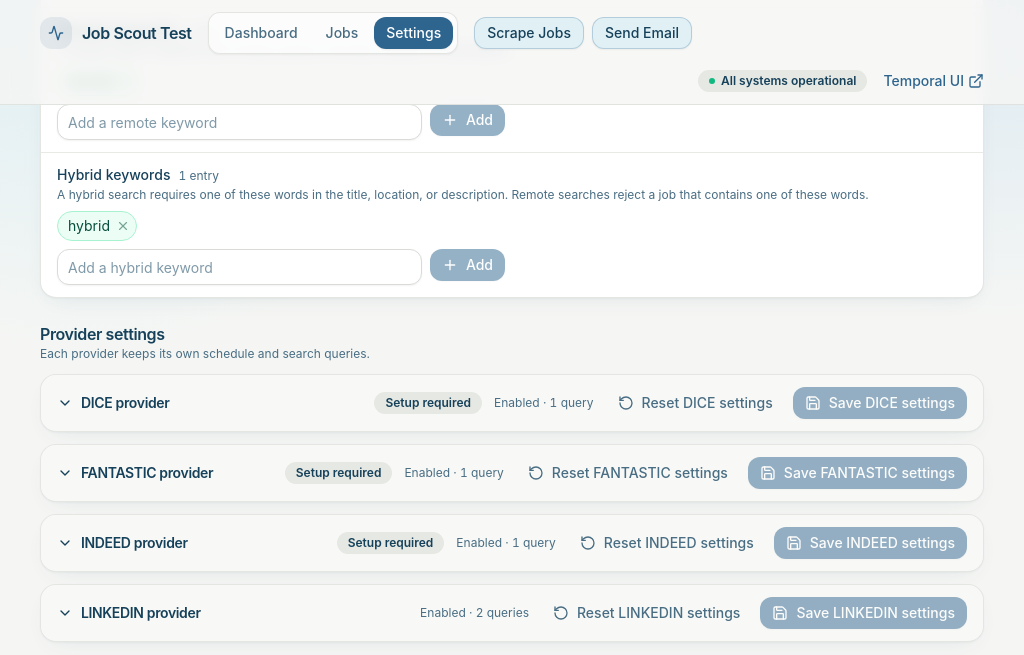
it: operator shell › renders provider editors and locks Apify providers without a token
(page scrolled)
Expected: the heading "INDEED provider" is shown, [57,531,188,555]
Expected: the heading "DICE provider" is shown, [57,391,170,415]
Click the button "LINKEDIN provider". click: [129, 613]
box: [57,601,201,625]
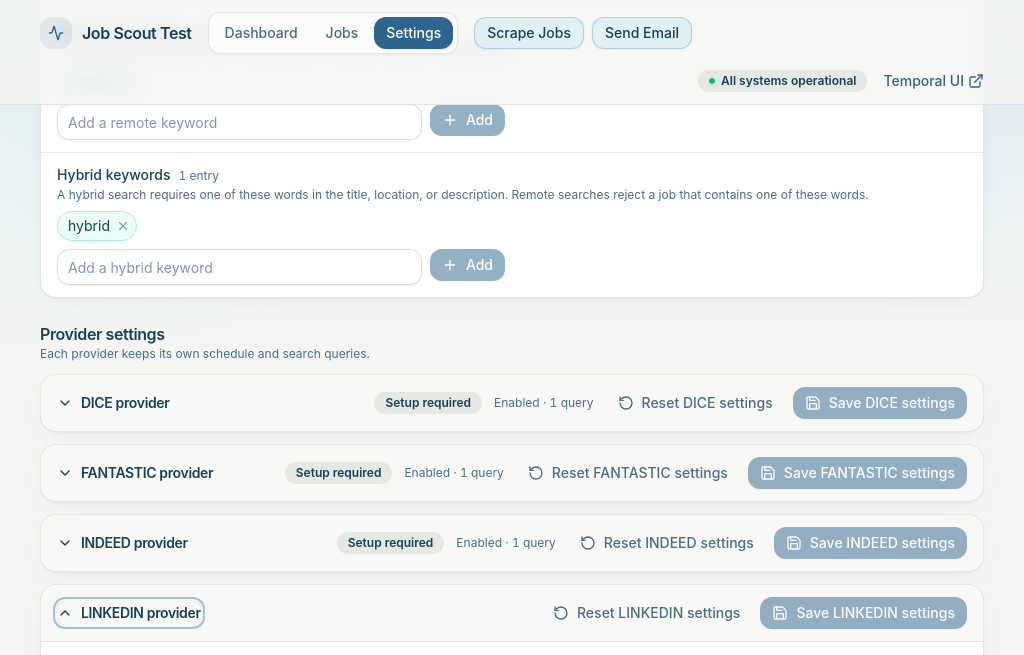
Click the button "INDEED provider". click: [122, 543]
box: [57,531,188,555]
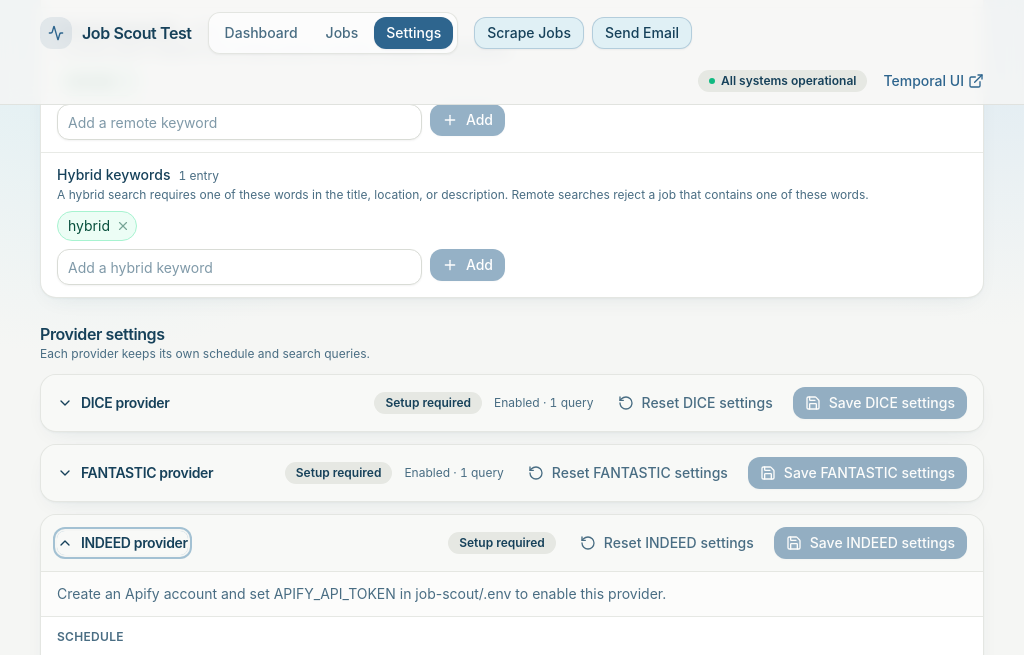
Click the button "DICE provider". click: [113, 403]
box: [57,391,170,415]
(page scrolled)
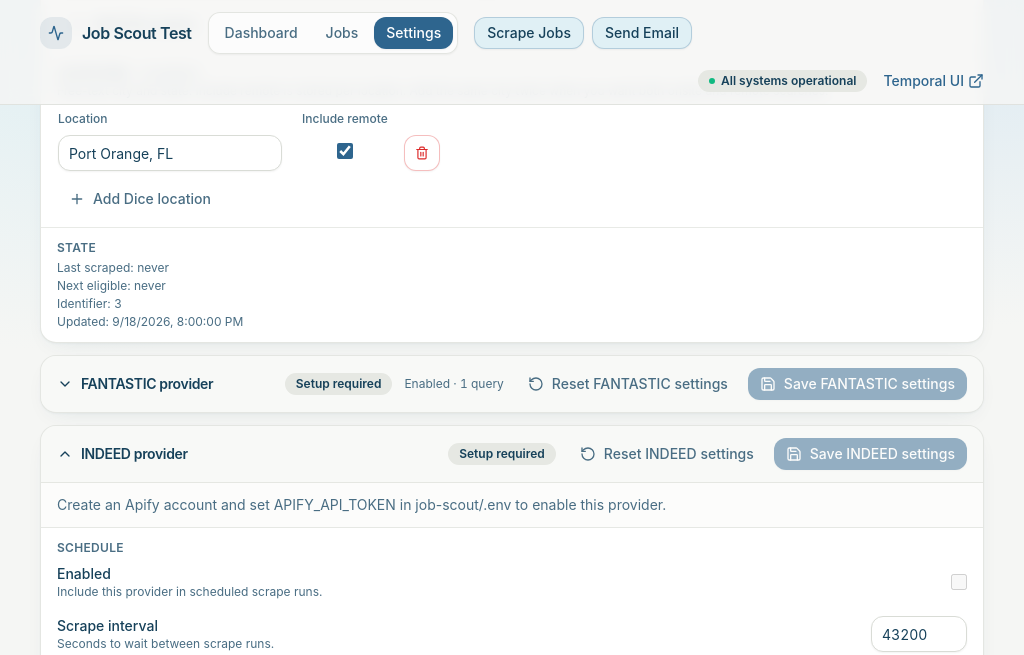
Click the button "FANTASTIC provider". click: [135, 384]
box: [57,372,213,396]
(page scrolled)
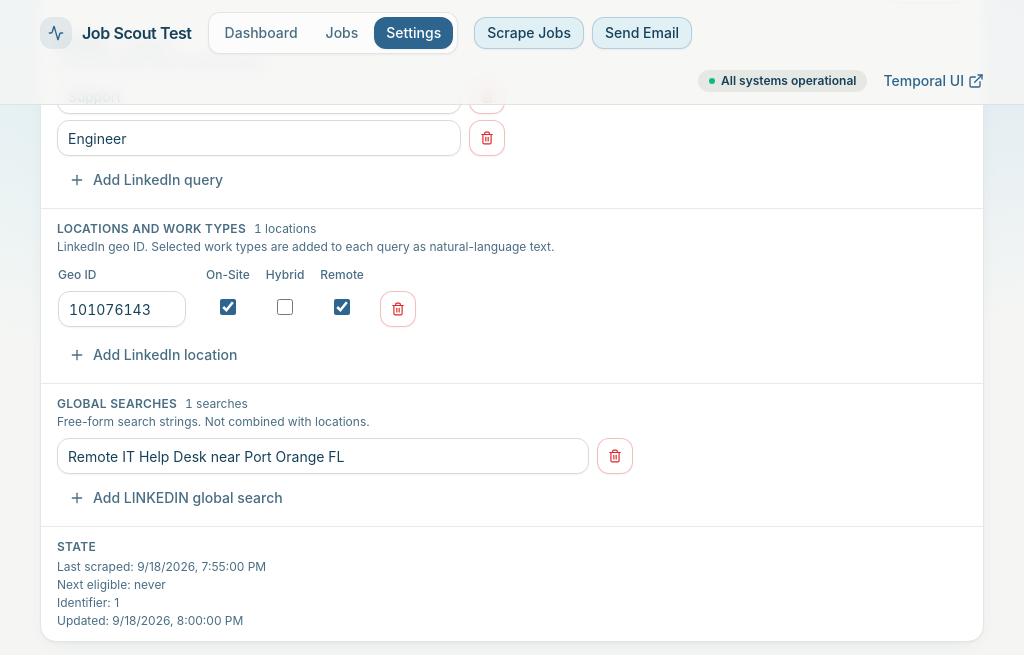
Expected: the text "Last scraped: 9/18/2026, 7:55:00 PM" is shown, [57,559,266,574]
Expected: the text "Next eligible: never" is shown 4 times
